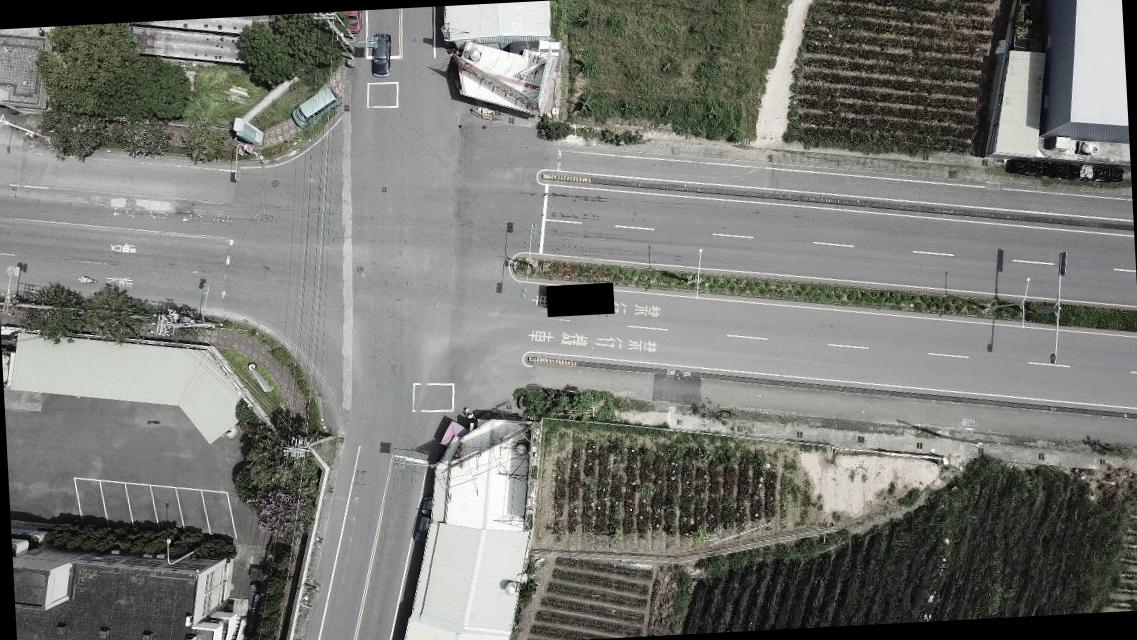vehicle: (286, 84, 337, 126), (365, 31, 394, 77), (411, 494, 437, 542), (339, 12, 362, 34)
